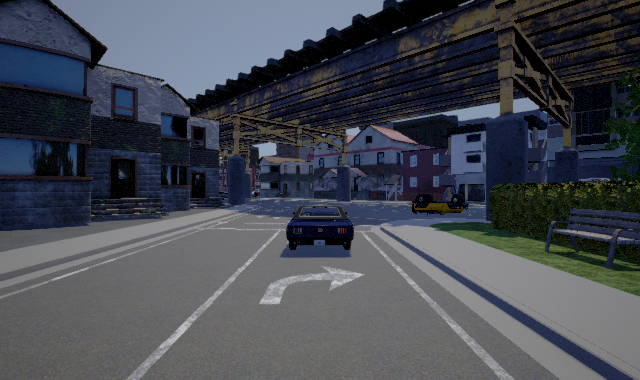vehicle: (286, 204, 354, 250), (412, 194, 469, 215)
